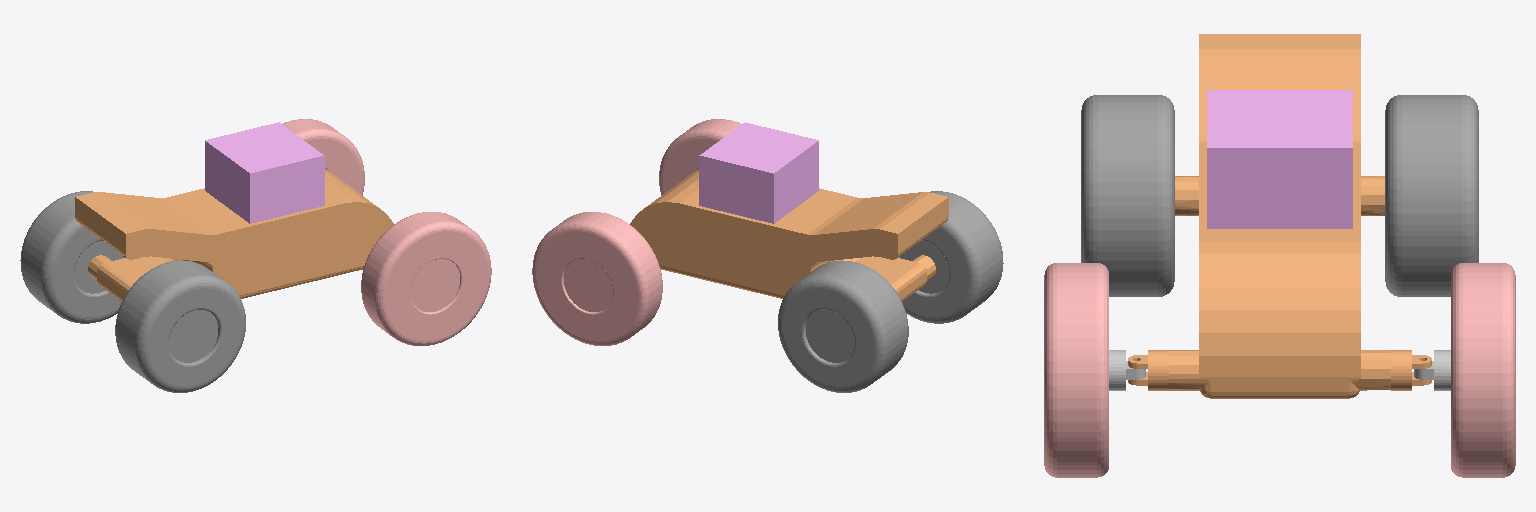
URDF robot description (puma_model):
<?xml version="1.0" encoding="utf-8"?>
<!-- This URDF was automatically created by SolidWorks to URDF Exporter! Originally created by [author] ([email redacted]) 
     Commit Version: 1.6.0-4-g7f85cfe  Build Version: 1.6.7995.38578
     For more information, please see http://wiki.ros.org/sw_urdf_exporter -->
<robot name="puma_model">
  <link
    name="base_link">
    <inertial>
      <origin
        xyz="0.000318371260688873 2.58258248245213E-07 0.367218886964779"
        rpy="0 0 0" />
      <mass
        value="137.364583550566" />
      <inertia
        ixx="3.48024888119141"
        ixy="-1.35770833137747E-06"
        ixz="1.25278348088499"
        iyy="16.4664872890134"
        iyz="8.1493916197498E-06"
        izz="16.8109813346284" />
    </inertial>
    <visual>
      <origin
        xyz="0 0 0"
        rpy="0 0 0" />
      <geometry>
        <mesh
          filename="package://puma_model/meshes/base_link.STL" />
      </geometry>
      <material
        name="">
        <color
          rgba="0.988235294117647 0.737254901960784 0.517647058823529 1" />
      </material>
    </visual>
    <collision>
      <origin
        xyz="0 0 0"
        rpy="0 0 0" />
      <geometry>
        <mesh
          filename="package://puma_model/meshes/base_link.STL" />
      </geometry>
    </collision>
  </link>
  <link
    name="dir_right_link">
    <inertial>
      <origin
        xyz="3.3307E-16 -0.047021 0"
        rpy="0 0 0" />
      <mass
        value="0.45023" />
      <inertia
        ixx="0.00045293"
        ixy="-2.0835E-20"
        ixz="-1.9343E-21"
        iyy="0.00050737"
        iyz="3.9521E-20"
        izz="0.00046079" />
    </inertial>
    <visual>
      <origin
        xyz="0 0 0"
        rpy="0 0 0" />
      <geometry>
        <mesh
          filename="package://puma_model/meshes/dir_right_link.STL" />
      </geometry>
      <material
        name="">
        <color
          rgba="0.82353 0.82353 0.82353 1" />
      </material>
    </visual>
    <collision>
      <origin
        xyz="0 0 0"
        rpy="0 0 0" />
      <geometry>
        <mesh
          filename="package://puma_model/meshes/dir_right_link.STL" />
      </geometry>
    </collision>
  </link>
  <joint
    name="dir_right_joint"
    type="continuous">
    <origin
      xyz="0.526726734803658 -0.353 0.265"
      rpy="0 0 0" />
    <parent
      link="base_link" />
    <child
      link="dir_right_link" />
    <axis
      xyz="0 0 1" />
  </joint>
  <link
    name="wheel_right_front_link">
    <inertial>
      <origin
        xyz="0 -1.1102E-16 0.07"
        rpy="0 0 0" />
      <mass
        value="32.018" />
      <inertia
        ixx="0.59867"
        ixy="-3.3873E-32"
        ixz="3.9787E-17"
        iyy="0.59867"
        iyz="-1.4091E-18"
        izz="1.0783" />
    </inertial>
    <visual>
      <origin
        xyz="0 0 0"
        rpy="0 0 0" />
      <geometry>
        <mesh
          filename="package://puma_model/meshes/wheel_right_front_link.STL" />
      </geometry>
      <material
        name="">
        <color
          rgba="1 0.75294 0.75294 1" />
      </material>
    </visual>
    <collision>
      <origin
        xyz="0 0 0"
        rpy="0 0 0" />
      <geometry>
        <mesh
          filename="package://puma_model/meshes/wheel_right_front_link.STL" />
      </geometry>
    </collision>
  </link>
  <joint
    name="wheel_right_front_joint"
    type="continuous">
    <origin
      xyz="0 -0.0779999999999998 0"
      rpy="1.5707963267949 0 0" />
    <parent
      link="dir_right_link" />
    <child
      link="wheel_right_front_link" />
    <axis
      xyz="0 0 -1" />
  </joint>
  <link
    name="dir_left_link">
    <inertial>
      <origin
        xyz="4.4409E-16 0.047021 1.1102E-16"
        rpy="0 0 0" />
      <mass
        value="0.45023" />
      <inertia
        ixx="0.00045293"
        ixy="-7.2925E-21"
        ixz="-1.6378E-21"
        iyy="0.00050737"
        iyz="1.6016E-20"
        izz="0.00046079" />
    </inertial>
    <visual>
      <origin
        xyz="0 0 0"
        rpy="0 0 0" />
      <geometry>
        <mesh
          filename="package://puma_model/meshes/dir_left_link.STL" />
      </geometry>
      <material
        name="">
        <color
          rgba="0.82353 0.82353 0.82353 1" />
      </material>
    </visual>
    <collision>
      <origin
        xyz="0 0 0"
        rpy="0 0 0" />
      <geometry>
        <mesh
          filename="package://puma_model/meshes/dir_left_link.STL" />
      </geometry>
    </collision>
  </link>
  <joint
    name="dir_left_joint"
    type="continuous">
    <origin
      xyz="0.526726734803658 0.353 0.265"
      rpy="0 0 0" />
    <parent
      link="base_link" />
    <child
      link="dir_left_link" />
    <axis
      xyz="0 0 1" />
  </joint>
  <link
    name="wheel_left_front_link">
    <inertial>
      <origin
        xyz="0 1.1102E-16 0.07"
        rpy="0 0 0" />
      <mass
        value="32.018" />
      <inertia
        ixx="0.59867"
        ixy="-1.4193E-32"
        ixz="-3.1297E-17"
        iyy="0.59867"
        iyz="-1.7836E-17"
        izz="1.0783" />
    </inertial>
    <visual>
      <origin
        xyz="0 0 0"
        rpy="0 0 0" />
      <geometry>
        <mesh
          filename="package://puma_model/meshes/wheel_left_front_link.STL" />
      </geometry>
      <material
        name="">
        <color
          rgba="1 0.75294 0.75294 1" />
      </material>
    </visual>
    <collision>
      <origin
        xyz="0 0 0"
        rpy="0 0 0" />
      <geometry>
        <mesh
          filename="package://puma_model/meshes/wheel_left_front_link.STL" />
      </geometry>
    </collision>
  </link>
  <joint
    name="wheel_left_front_joint"
    type="continuous">
    <origin
      xyz="0 0.078 0"
      rpy="1.5707963267949 0 -3.14159265358979" />
    <parent
      link="dir_left_link" />
    <child
      link="wheel_left_front_link" />
    <axis
      xyz="0 0 -1" />
  </joint>
  <link
    name="wheel_right_back_link">
    <inertial>
      <origin
        xyz="1.4432899320127E-15 -1.55431223447522E-15 0.1"
        rpy="0 0 0" />
      <mass
        value="39.8759403950152" />
      <inertia
        ixx="0.738004078739411"
        ixy="-2.40636772622452E-32"
        ixz="5.01473497824115E-17"
        iyy="0.738004078739411"
        iyz="-2.10536971222048E-16"
        izz="1.18405631579549" />
    </inertial>
    <visual>
      <origin
        xyz="0 0 0"
        rpy="0 0 0" />
      <geometry>
        <mesh
          filename="package://puma_model/meshes/wheel_right_back_link.STL" />
      </geometry>
      <material
        name="">
        <color
          rgba="0.666666666666667 0.666666666666667 0.666666666666667 1" />
      </material>
    </visual>
    <collision>
      <origin
        xyz="0 0 0"
        rpy="0 0 0" />
      <geometry>
        <mesh
          filename="package://puma_model/meshes/wheel_right_back_link.STL" />
      </geometry>
    </collision>
  </link>
  <joint
    name="wheel_right_back_joint"
    type="continuous">
    <origin
      xyz="-0.523273265196343 -0.275 0.250000000000001"
      rpy="1.5707963267949 0 0" />
    <parent
      link="base_link" />
    <child
      link="wheel_right_back_link" />
    <axis
      xyz="0 0 -1" />
  </joint>
  <link
    name="wheel_left_back_link">
    <inertial>
      <origin
        xyz="3.33066907387547E-16 -1.11022302462516E-16 0.0999999999999998"
        rpy="0 0 0" />
      <mass
        value="39.8759403950152" />
      <inertia
        ixx="0.738004078739411"
        ixy="-6.00424777087413E-33"
        ixz="5.78644975246967E-19"
        iyy="0.73800407873941"
        iyz="7.25303828077831E-18"
        izz="1.18405631579549" />
    </inertial>
    <visual>
      <origin
        xyz="0 0 0"
        rpy="0 0 0" />
      <geometry>
        <mesh
          filename="package://puma_model/meshes/wheel_left_back_link.STL" />
      </geometry>
      <material
        name="">
        <color
          rgba="0.666666666666667 0.666666666666667 0.666666666666667 1" />
      </material>
    </visual>
    <collision>
      <origin
        xyz="0 0 0"
        rpy="0 0 0" />
      <geometry>
        <mesh
          filename="package://puma_model/meshes/wheel_left_back_link.STL" />
      </geometry>
    </collision>
  </link>
  <joint
    name="wheel_left_back_joint"
    type="continuous">
    <origin
      xyz="-0.523273265196342 0.275 0.249999999999999"
      rpy="-1.5707963267949 0 0" />
    <parent
      link="base_link" />
    <child
      link="wheel_left_back_link" />
    <axis
      xyz="0 0 -1" />
  </joint>
  <link
    name="base_component_link">
    <inertial>
      <origin
        xyz="0 -1.38777878078145E-17 0"
        rpy="0 0 0" />
      <mass
        value="26.928" />
      <inertia
        ixx="0.399432"
        ixy="5.25749814054658E-17"
        ixz="-1.90310730137829E-18"
        iyy="0.368016"
        iyz="5.64237288394698E-34"
        izz="0.5502288" />
    </inertial>
    <visual>
      <origin
        xyz="0 0 0"
        rpy="0 0 0" />
      <geometry>
        <mesh
          filename="package://puma_model/meshes/base_component_link.STL" />
      </geometry>
      <material
        name="">
        <color
          rgba="1 0.752941176470588 1 1" />
      </material>
    </visual>
    <collision>
      <origin
        xyz="0 0 0"
        rpy="0 0 0" />
      <geometry>
        <mesh
          filename="package://puma_model/meshes/base_component_link.STL" />
      </geometry>
    </collision>
  </link>
  <joint
    name="base_component_joint"
    type="fixed">
    <origin
      xyz="0.0767267348036579 0 0.63"
      rpy="0 0 0" />
    <parent
      link="base_link" />
    <child
      link="base_component_link" />
    <axis
      xyz="0 0 0" />
  </joint>
  
</robot>

--- Facts derived from the render (not from the file) ---
The picture shows the robot from 3 angles, left to right: view 1: azimuth 30°, elevation 25°; view 2: azimuth 150°, elevation 25°; view 3: azimuth 270°, elevation 25°; orthographic projection.
Model puma_model with 8 links and 7 joints (6 continuous, 1 fixed), rooted at base_link, posed all joints at 0.
Links seen in each view (by area): view 1: base_link, wheel_right_front_link, wheel_right_back_link, base_component_link, wheel_left_back_link, wheel_left_front_link; view 2: base_link, wheel_left_front_link, wheel_left_back_link, base_component_link, wheel_right_back_link, wheel_right_front_link; view 3: base_link, base_component_link, wheel_right_back_link, wheel_left_back_link, wheel_right_front_link, wheel_left_front_link, dir_right_link, dir_left_link.
Link boxes in pixels (<box>): base_link: <box>75,169,393,300</box>; wheel_right_front_link: <box>361,212,491,345</box>; wheel_right_back_link: <box>115,261,245,392</box>; base_component_link: <box>205,122,324,223</box>; wheel_left_back_link: <box>20,191,125,323</box>; wheel_left_front_link: <box>282,119,364,195</box>; base_link: <box>630,170,948,300</box>; wheel_left_front_link: <box>532,212,662,345</box>; wheel_left_back_link: <box>778,260,908,392</box>; base_component_link: <box>699,122,818,223</box>; wheel_right_back_link: <box>898,191,1003,323</box>; wheel_right_front_link: <box>659,119,741,195</box>; base_link: <box>1128,34,1431,398</box>; base_component_link: <box>1207,90,1352,228</box>; wheel_right_back_link: <box>1081,95,1174,296</box>; wheel_left_back_link: <box>1385,95,1478,296</box>; wheel_right_front_link: <box>1044,263,1108,477</box>; wheel_left_front_link: <box>1451,263,1515,477</box>; dir_right_link: <box>1109,350,1145,390</box>; dir_left_link: <box>1414,350,1450,390</box>.
Size in the robot's own frame: 1.56 by 1.16 by 0.74 metres.
Meshes: 8 distinct files referenced, 8 mesh visuals loaded (8 binary STL).